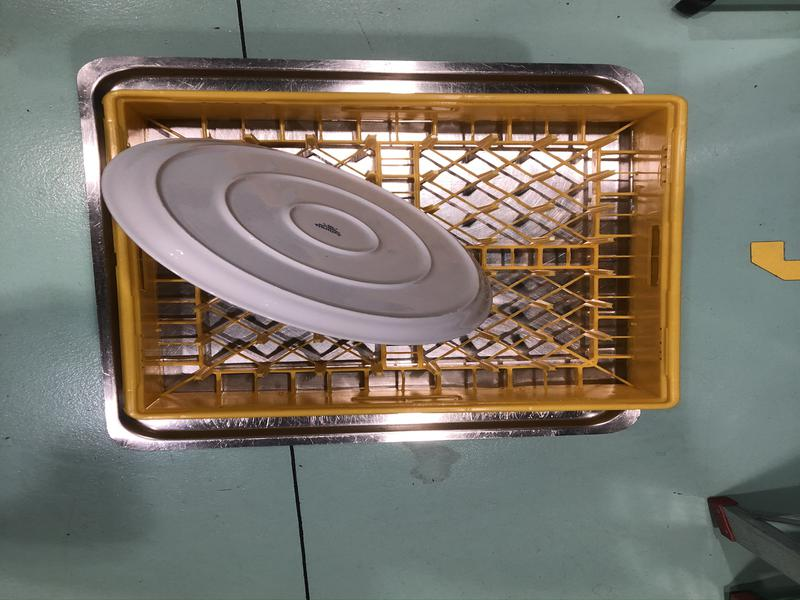Inclined_dish: (99, 138, 486, 345)
